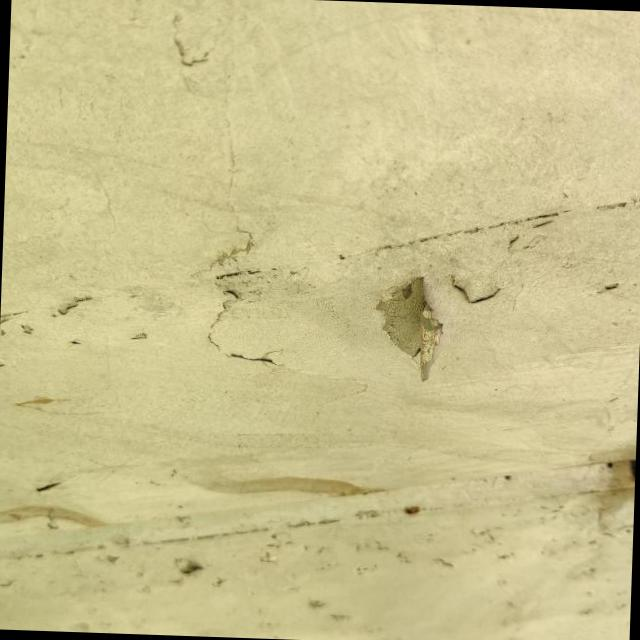Paint-off: (376, 276, 443, 380)
